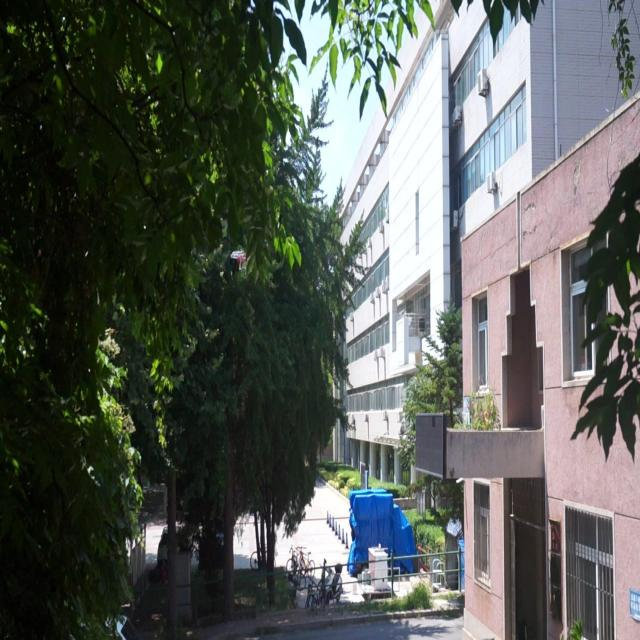UAV: (230, 250, 258, 271)
